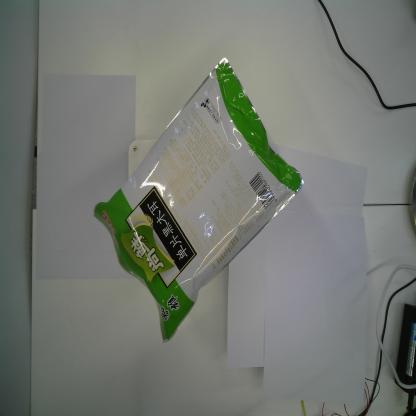Dried Food: (91, 53, 305, 348)
